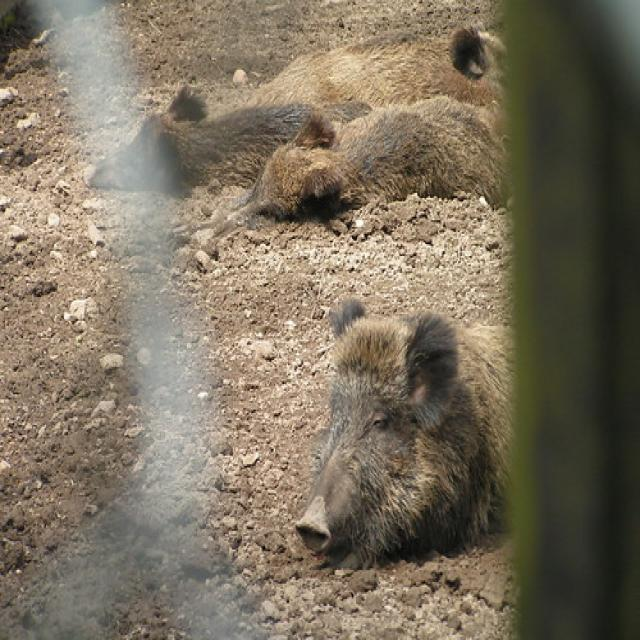boar: (289, 279, 515, 608), (209, 91, 522, 247), (60, 77, 345, 200), (210, 38, 516, 133)
